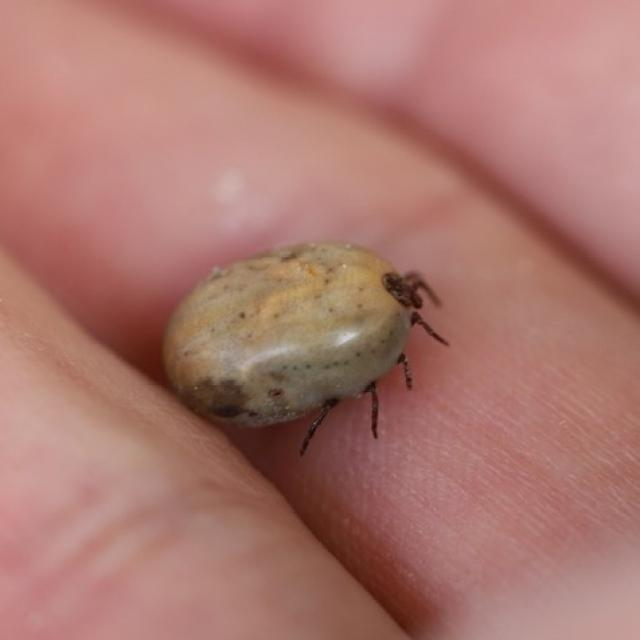Dermacentor Reticulatus-F-Fed: (163, 242, 450, 457)
